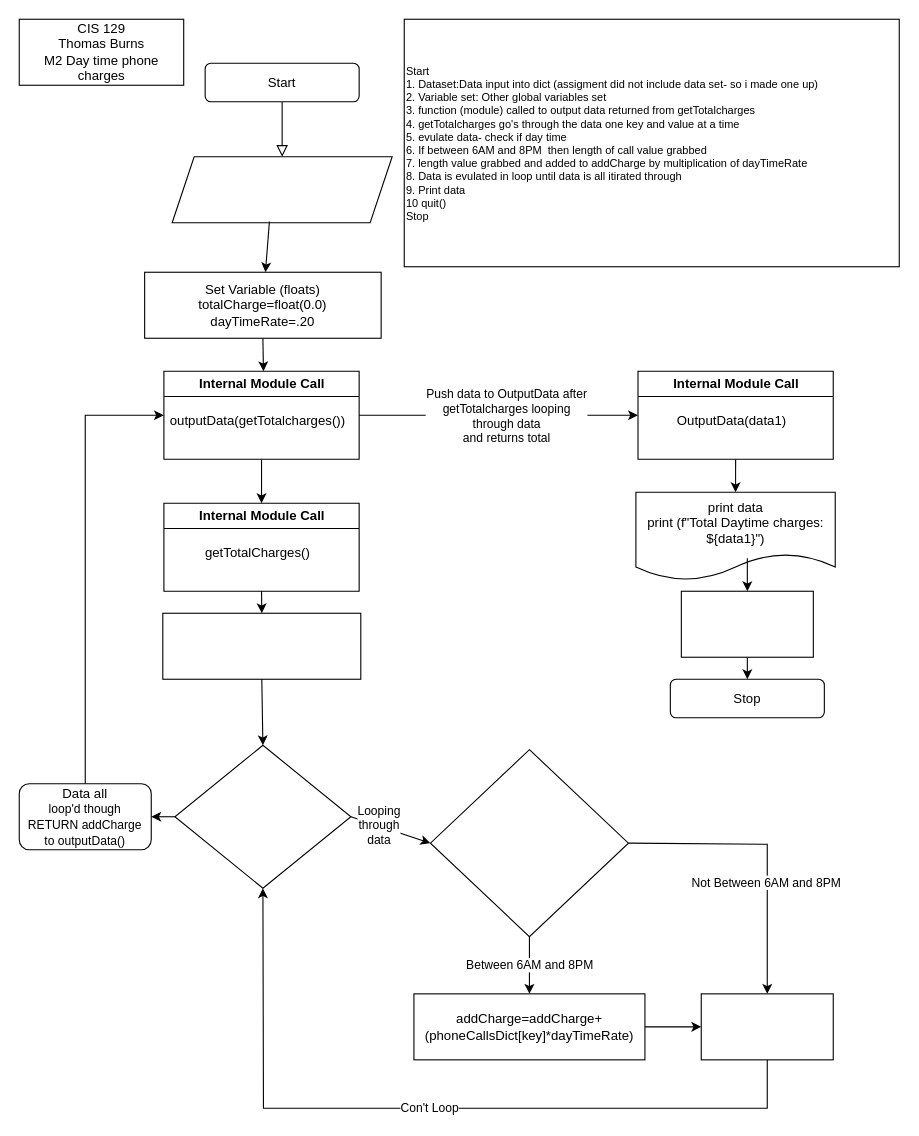
Some shapes in this 919 by 1136 pixel diagram are drawn without their labels. The shapes that lost their labels are listed below. From the top down, each one's box as (x1, y1, x2, y2) in pixels, then its label:
(171, 156, 392, 223): Data Dictionary phoneCallsDict With time,length of call
(680, 590, 813, 657): quit()
(162, 612, 361, 679): Set local Variable (floats) addCharge=float()
(174, 744, 351, 888): Loop through data in phoneCallsDict
(429, 749, 628, 937): Is key value (time) between 6AM and 8PM or not
(700, 993, 833, 1060): Loop next item if any
